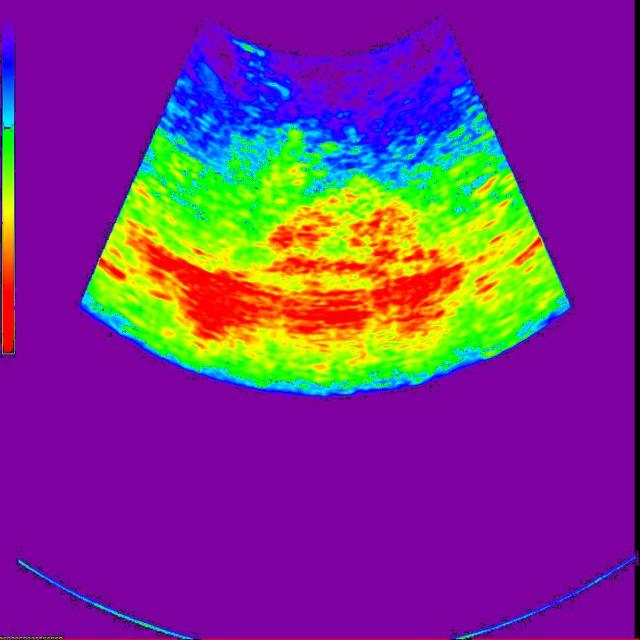lamb muscle pre: (265, 175, 418, 260)
